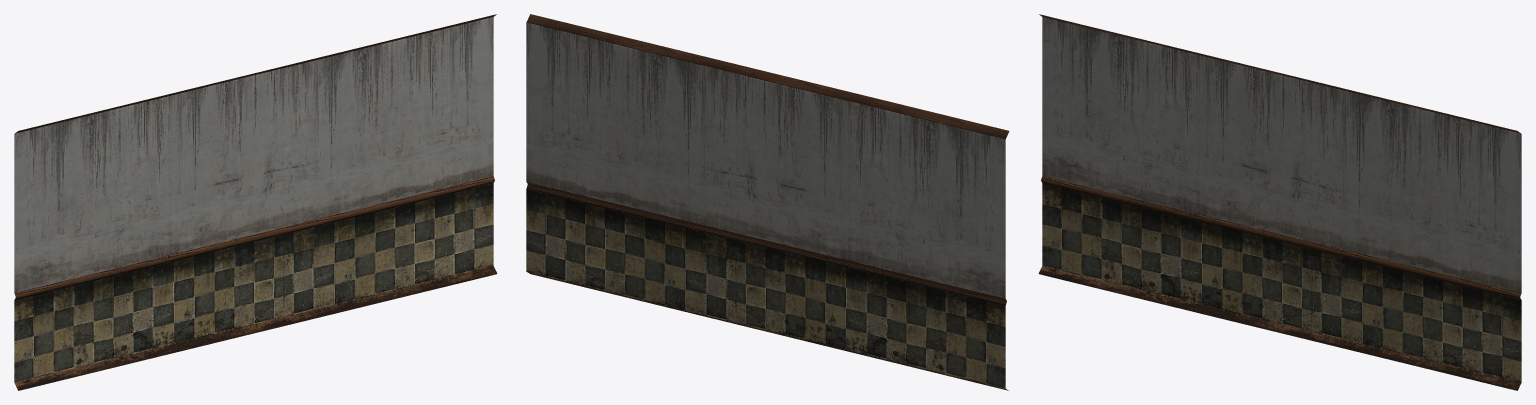
The model's file is Wall.FBX.
3 renders of one model, left to right at view 1: azimuth 30°, elevation 25°; view 2: azimuth 150°, elevation 25°; view 3: azimuth 330°, elevation 25°, orthographic.
Visible parts, largest first — view 1: Wall; view 2: Wall; view 3: Wall.
Part boxes in pixels (x1,y1,x2,y2): Wall: (14, 14, 497, 390); Wall: (526, 14, 1009, 390); Wall: (1038, 14, 1521, 390).
Size of the model in its own units: 114 by 58.89 by 1.61.
